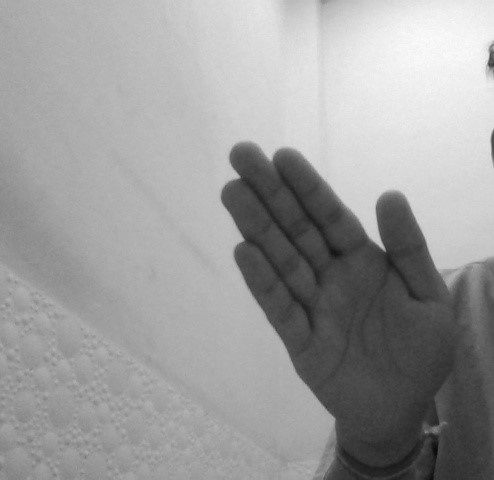Hello: (214, 132, 468, 446)
